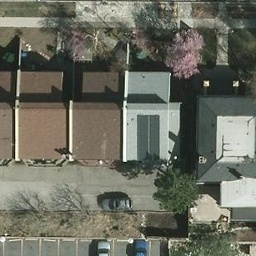car: (100, 194, 133, 212), (133, 236, 149, 256), (95, 239, 110, 256)
